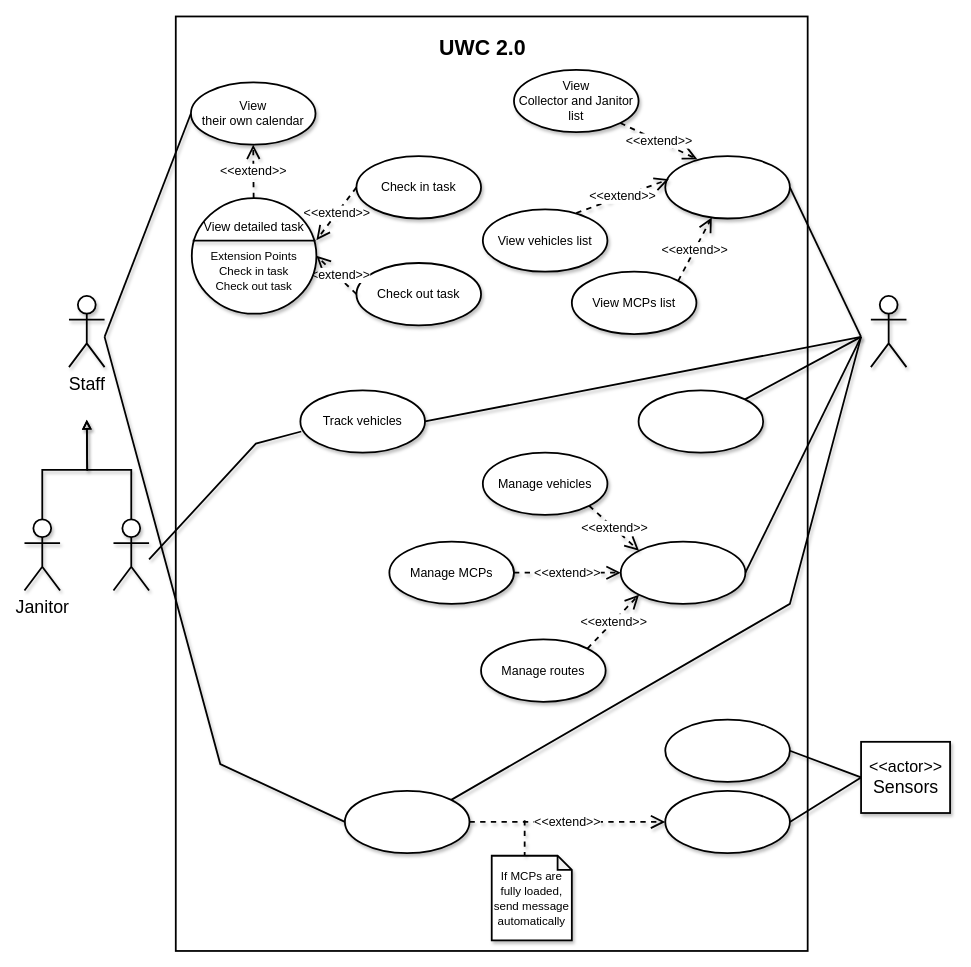
The diagram is 971 pixels wide and 967 high, and some of its shapes have lost their labels. The shapes that lost their labels are listed below. From the top down, each one's centre as x and y in pixels, then its label:
At (728,188): "Human resources overview".
At (889,332): "Back officer".
At (701,422): "View statistics".
At (132,555): "Collector".
At (683,574): "Operational management".
At (728,752): "Update MCPs' capacity".
At (407,823): "Send messages".
At (728,823): "Update vehicles' detail".
